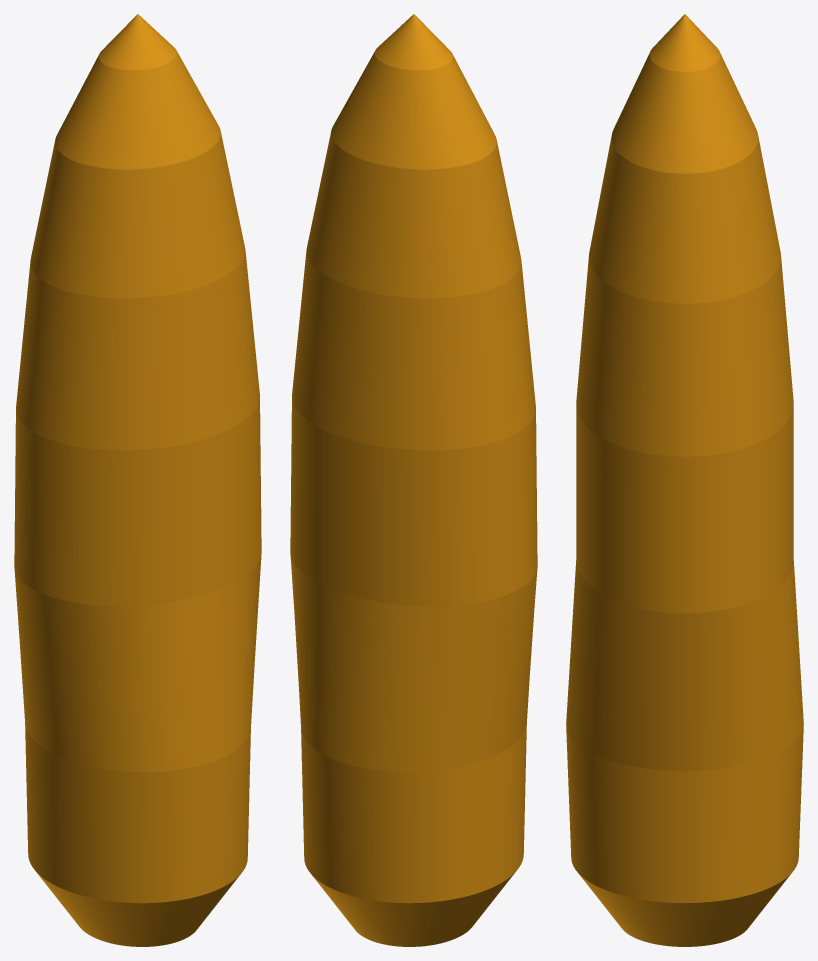
3 views of the same model, side by side, from view 1: azimuth 30°, elevation 25°; view 2: azimuth 150°, elevation 25°; view 3: azimuth 270°, elevation 25° (orthographic).
Visible parts, largest first — view 1: golden_point; view 2: golden_point; view 3: golden_point.
Part boxes in pixels (x1,y1,x2,y2): golden_point: (14,14,261,946); golden_point: (290,14,537,946); golden_point: (566,14,803,946).
Bounding box in the file's own units: 0.0508 × 0.2 × 0.047.
